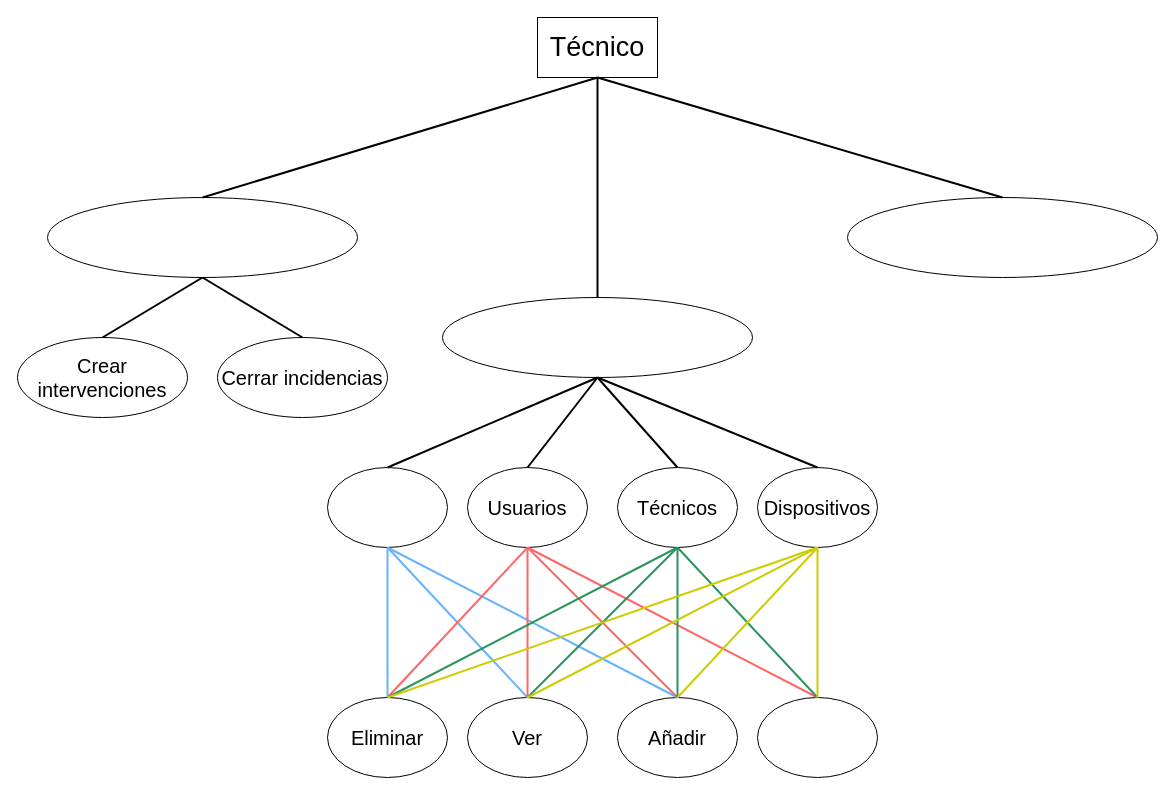
This 1175x795 diagram has some shape labels left out. Here are the shapes that lost their labels. From the top down, the centre of each, then its label:
the point at 202,237: Gestión de incidencias
the point at 1002,237: Vista de estadísticas
the point at 597,337: Administración
the point at 387,507: Empresas
the point at 817,737: Editar
